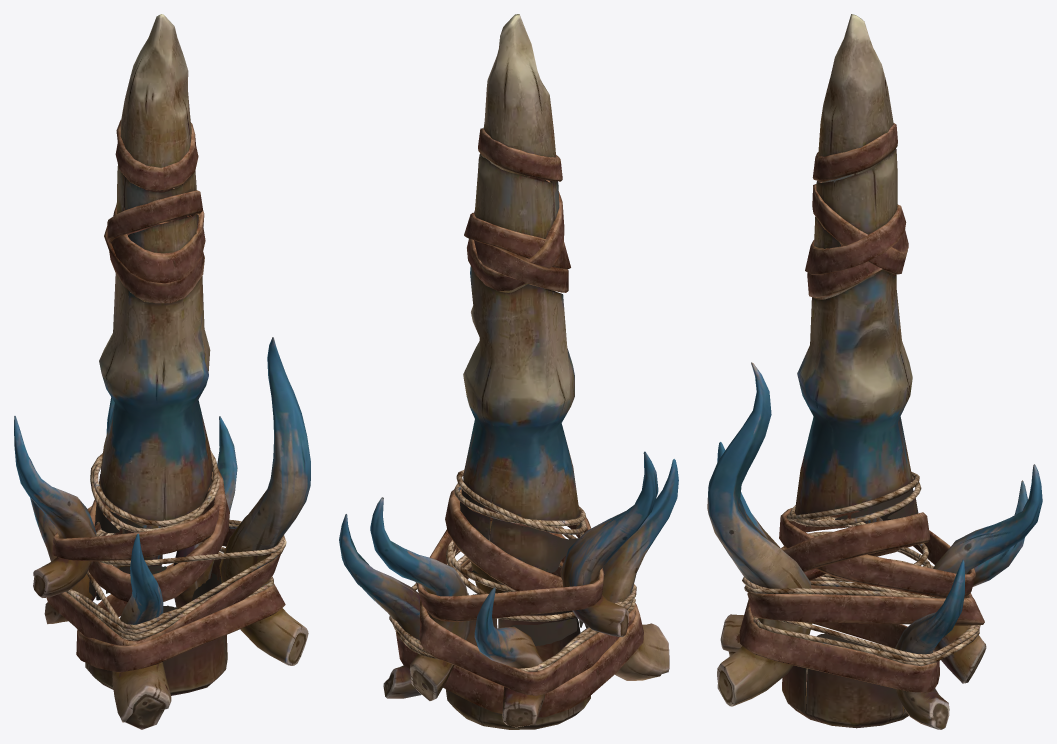
3 views of the same model, side by side, from view 1: azimuth 30°, elevation 25°; view 2: azimuth 150°, elevation 25°; view 3: azimuth 270°, elevation 25° (orthographic). The views are drawn at different scales.
Visible parts, largest first — view 1: SM_Dec_Garou_Trophy_01_LOD0; view 2: SM_Dec_Garou_Trophy_01_LOD0; view 3: SM_Dec_Garou_Trophy_01_LOD0.
Boxes of the visible parts, left/top/right/bottom form: SM_Dec_Garou_Trophy_01_LOD0: left=14, top=14, right=310, bottom=729; SM_Dec_Garou_Trophy_01_LOD0: left=339, top=14, right=678, bottom=729; SM_Dec_Garou_Trophy_01_LOD0: left=707, top=14, right=1042, bottom=729.
Bounding box in the file's own units: 0.8216 × 1.98 × 0.8755.
Materials: 2 (2 with a texture image).
